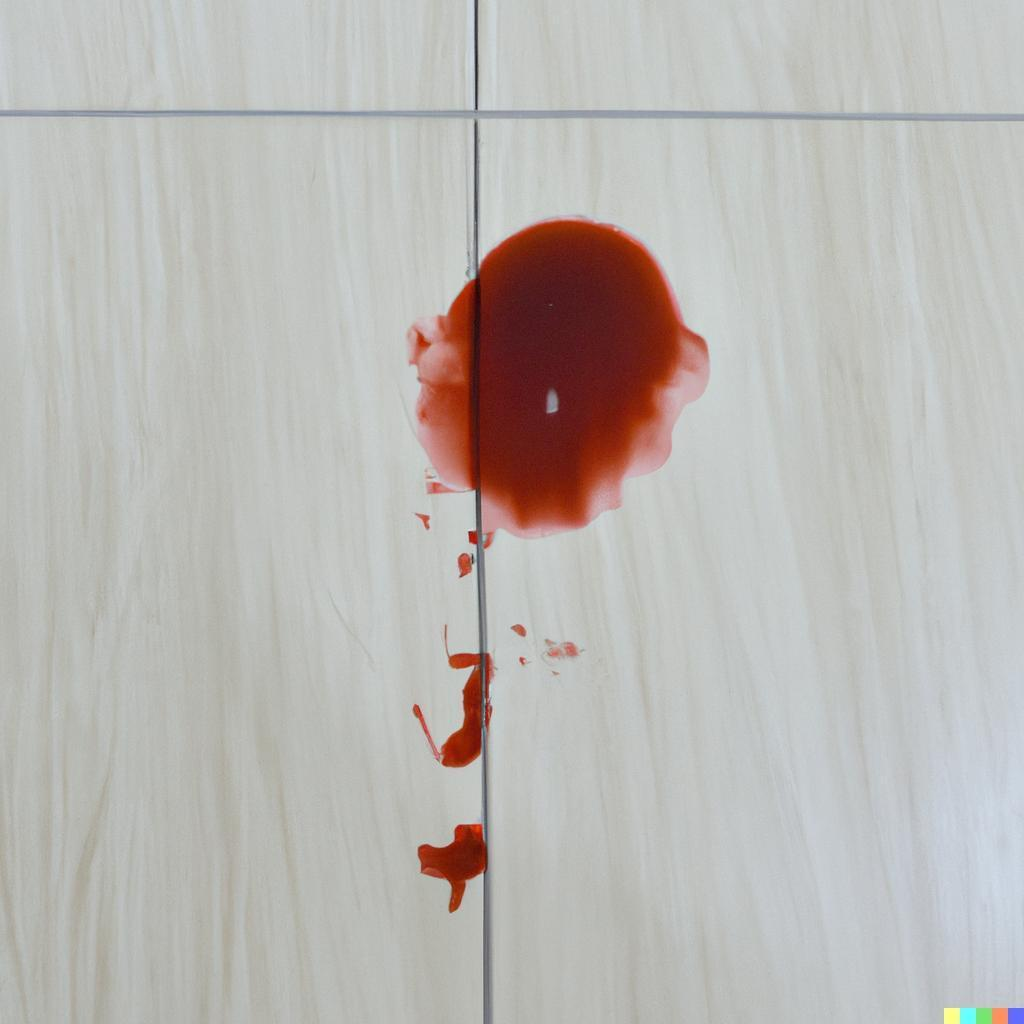Bloodstain-Detection: (444, 222, 664, 528), (434, 838, 475, 887)
